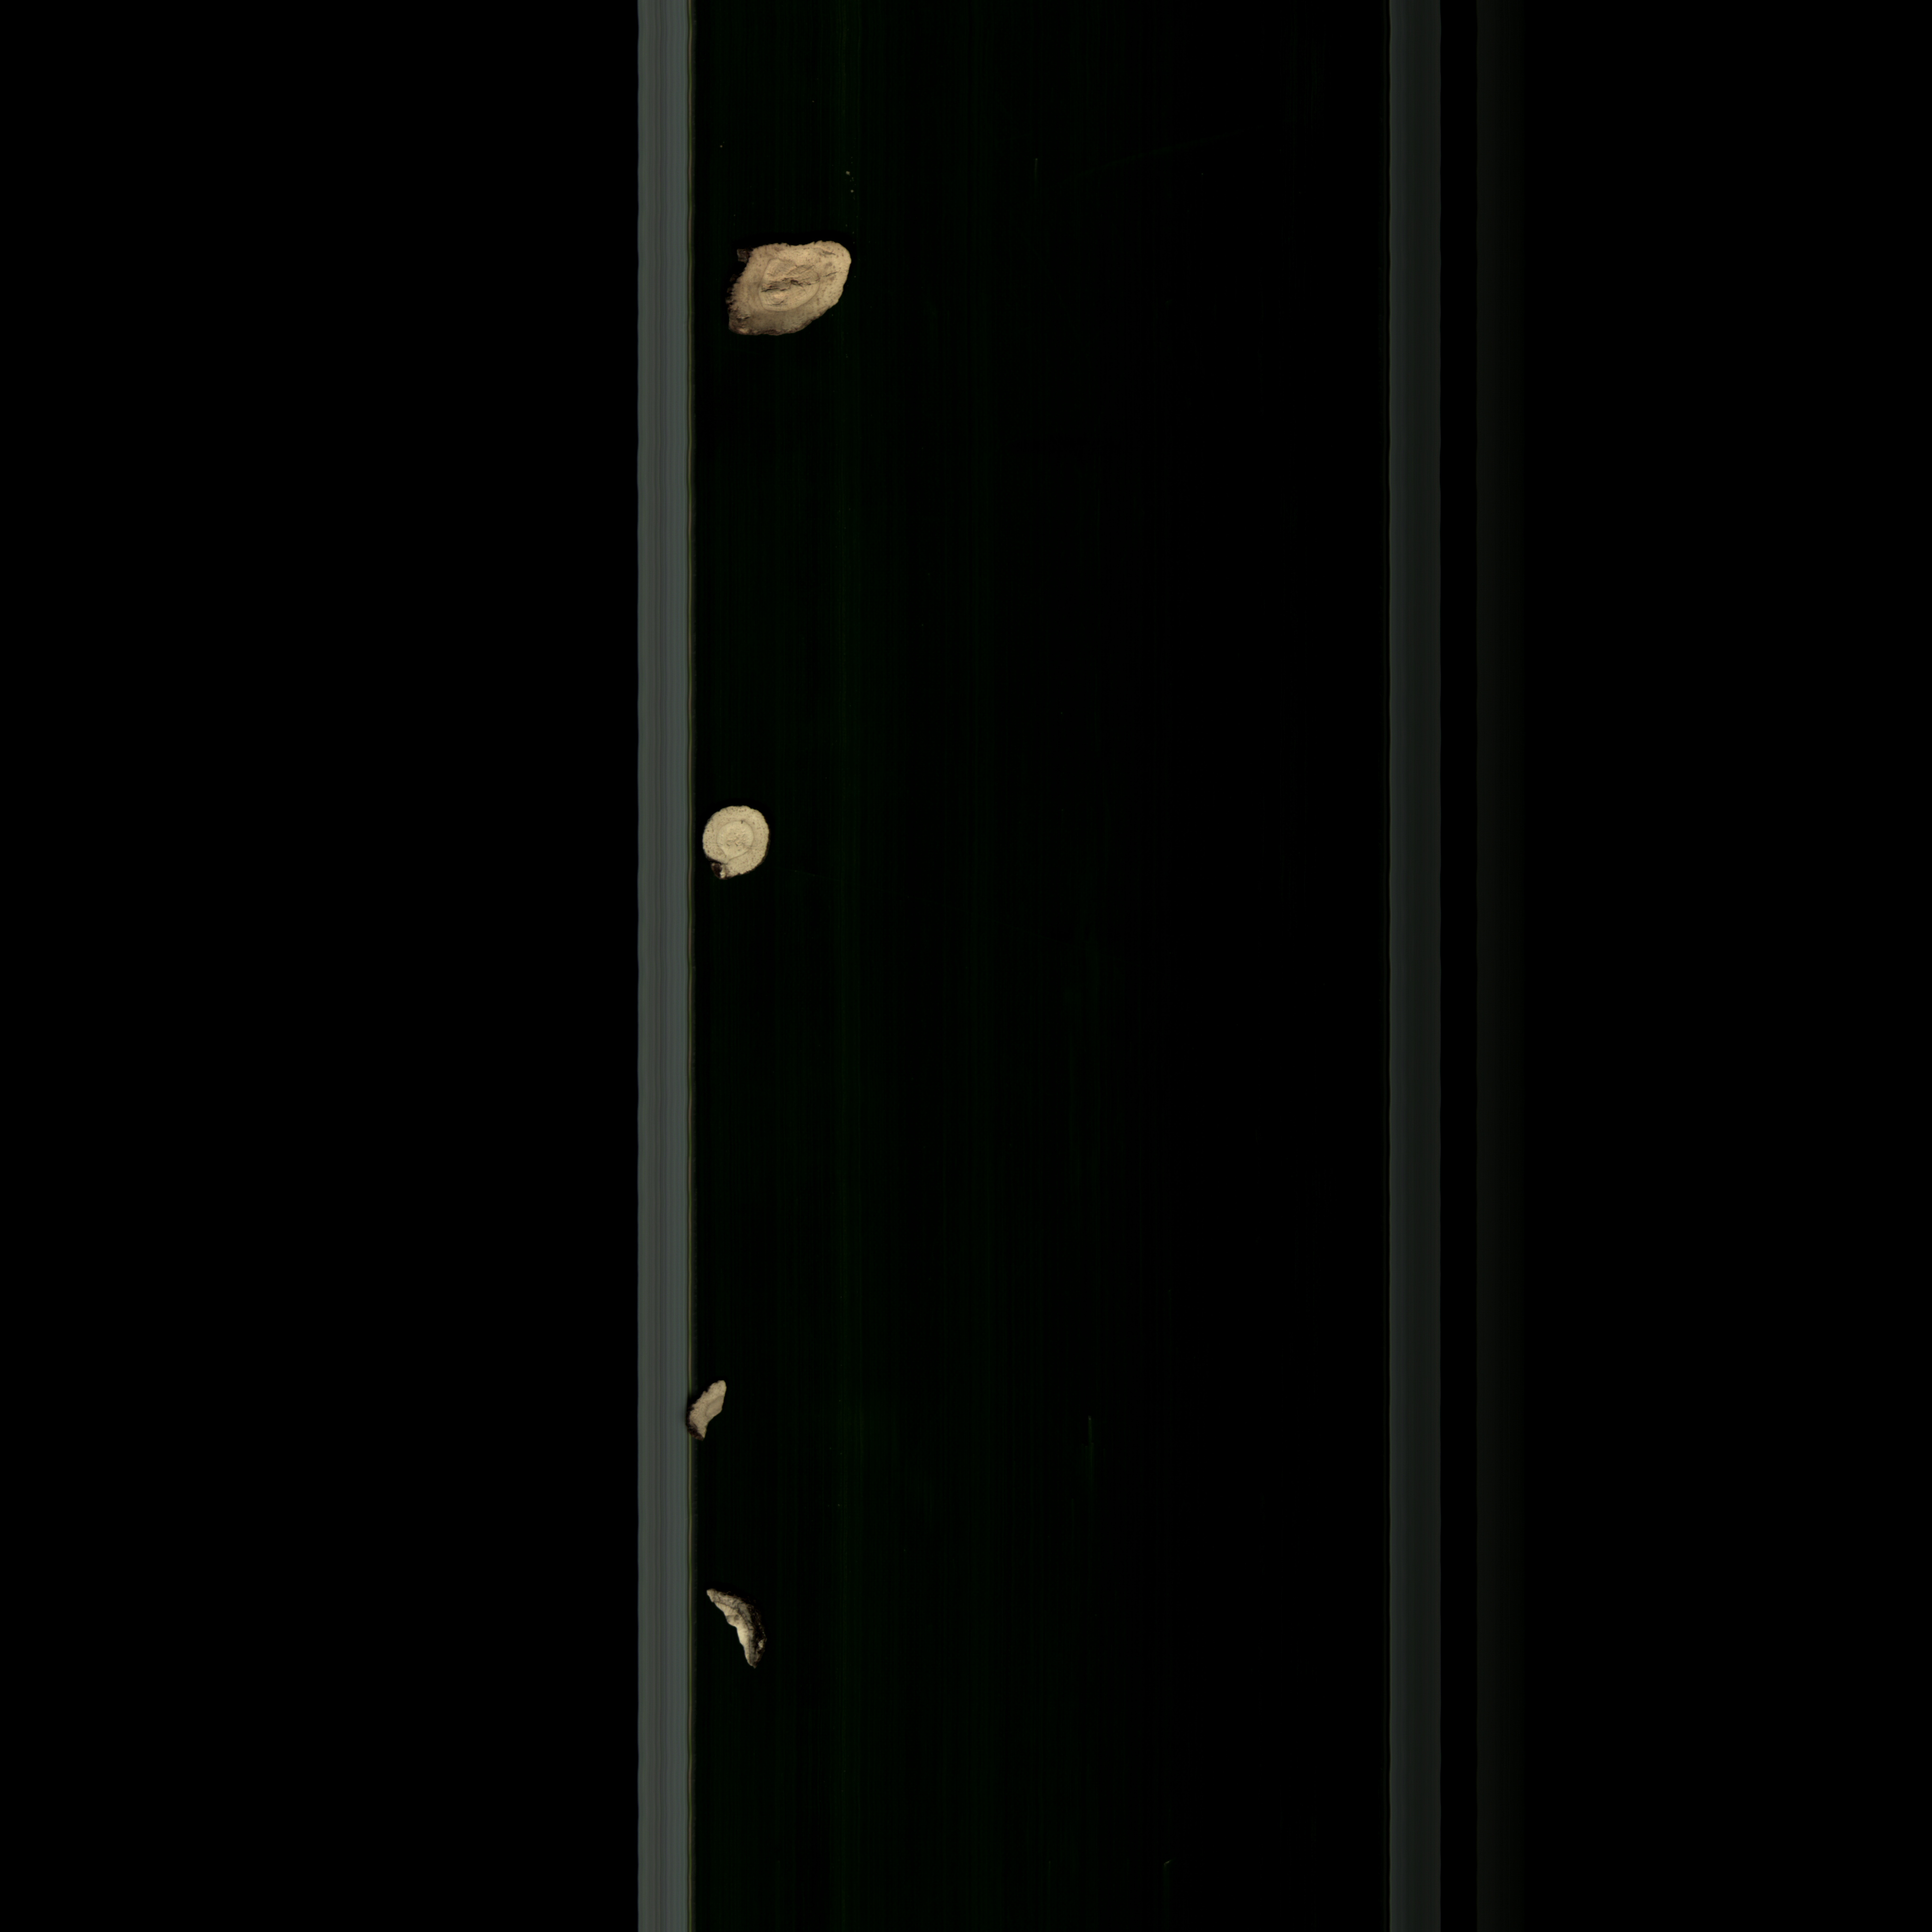debris: (695, 794, 770, 892)
dreg: (683, 1373, 741, 1444)
moldy: (717, 226, 855, 350), (695, 1578, 766, 1677)
